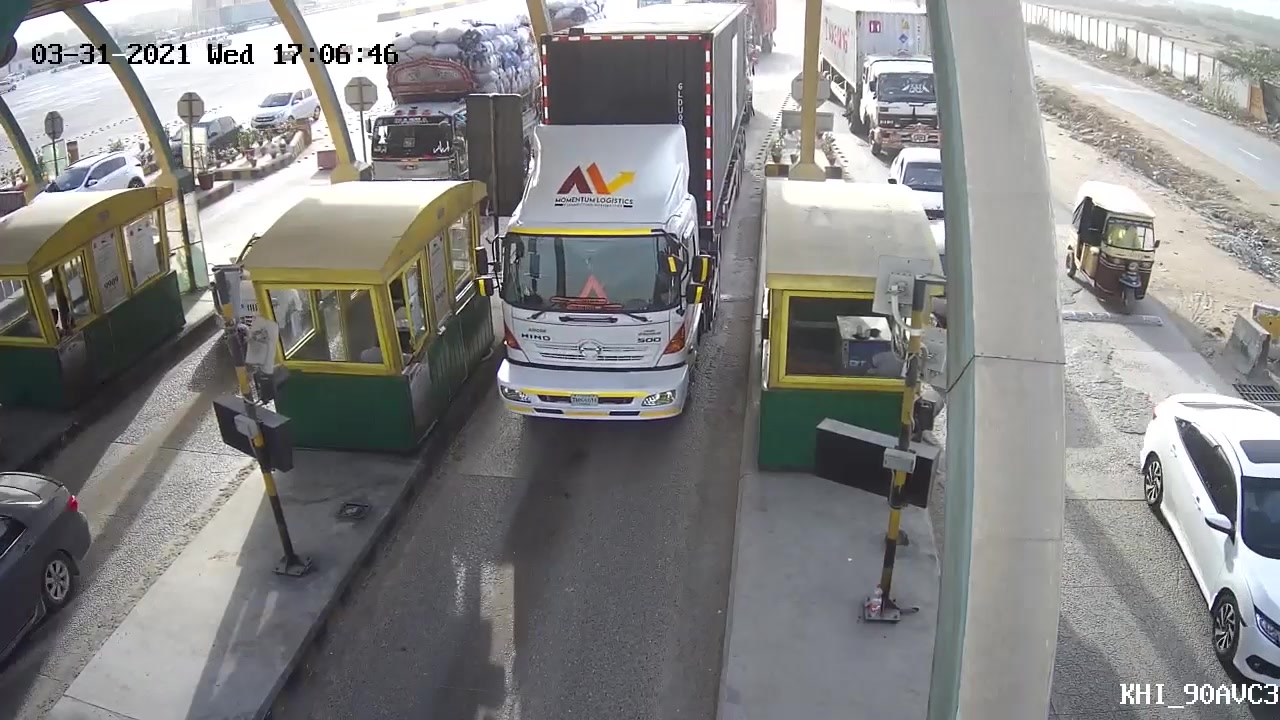F6: (456, 17, 753, 431)
